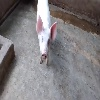heo: (34, 11, 57, 66)
